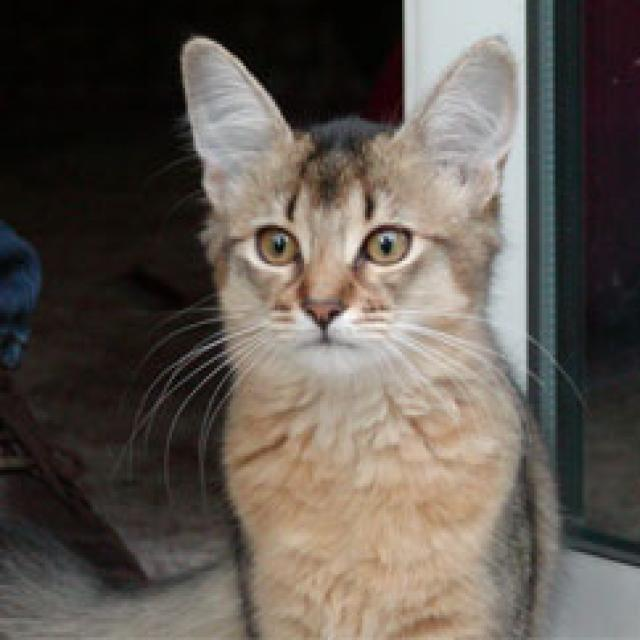Abyssinian: (177, 33, 513, 376)
